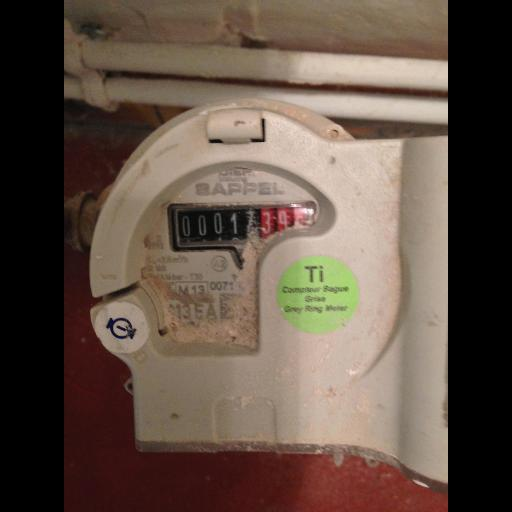0: (179, 211, 194, 243), (196, 210, 210, 242), (211, 209, 225, 241)
1: (227, 209, 241, 241)
3: (260, 208, 274, 239)
7: (243, 209, 258, 240)
9: (276, 206, 291, 232)
border_water_meter_number: (168, 198, 319, 252)
